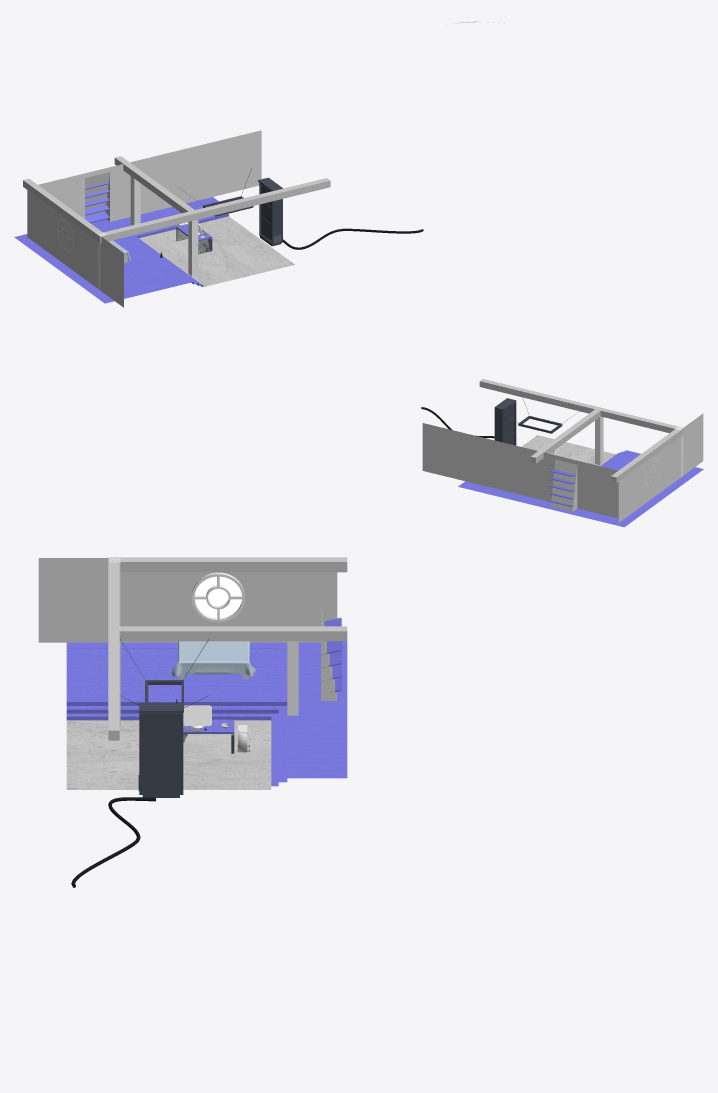
Rendered from computer_v8.8.glb.
3 renders of one model, top to bottom at view 1: azimuth 30°, elevation 25°; view 2: azimuth 150°, elevation 25°; view 3: azimuth 270°, elevation 25°, orthographic. The views are drawn at different scales.
Visible parts, largest first — view 1: 01_new_ground, 01_wall_02, 01_wall_back, poutre_horiz01, 02_servers, poutre01, poutre_horiz02, 01_window_dimmer, 01_poutres, poutre_vert02; view 2: 01_wall_02, 01_wall_back, 01_new_ground, poutre_horiz01, 02_servers, poutre01, poutre_horiz02, 01_poutres, 01_window_dimmer, 01_Chandelier; view 3: 01_new_ground, 01_wall_back, 02_servers, poutre_horiz02, poutre01, 01_sheet, poutre_horiz01, 01_Circlular_window_emitter, 01_Circlular_window, poutre_vert02.
Part boxes in pixels (x1,y1,x2,y2): 01_new_ground: (14, 197, 294, 303); 01_wall_02: (38, 130, 261, 221); 01_wall_back: (27, 190, 123, 307); poutre_horiz01: (96, 178, 330, 243); 02_servers: (258, 177, 282, 246); poutre01: (23, 178, 102, 240); poutre_horiz02: (114, 156, 194, 213); 01_window_dimmer: (85, 182, 109, 222); 01_poutres: (188, 219, 198, 276); poutre_vert02: (130, 176, 140, 225); 01_wall_02: (422, 423, 618, 518); 01_wall_back: (618, 413, 703, 522); 01_new_ground: (458, 435, 703, 527); poutre_horiz01: (479, 379, 684, 435); 02_servers: (494, 398, 516, 445); poutre01: (611, 429, 680, 483); poutre_horiz02: (530, 409, 600, 463); 01_poutres: (595, 416, 603, 465); 01_window_dimmer: (549, 469, 576, 506); 01_Chandelier: (496, 391, 585, 433); 01_new_ground: (66, 641, 347, 789); 01_wall_back: (38, 558, 337, 642); 02_servers: (138, 703, 183, 797); poutre_horiz02: (119, 626, 347, 641); poutre01: (119, 557, 347, 572); 01_sheet: (171, 641, 255, 676); poutre_horiz01: (108, 557, 119, 740); 01_Circlular_window_emitter: (194, 576, 241, 618); 01_Circlular_window: (191, 572, 244, 622); poutre_vert02: (287, 641, 298, 715).
Bounding box in the file's own units: 40.48 × 4.82 × 26.94.
15 materials, 5 textured.
